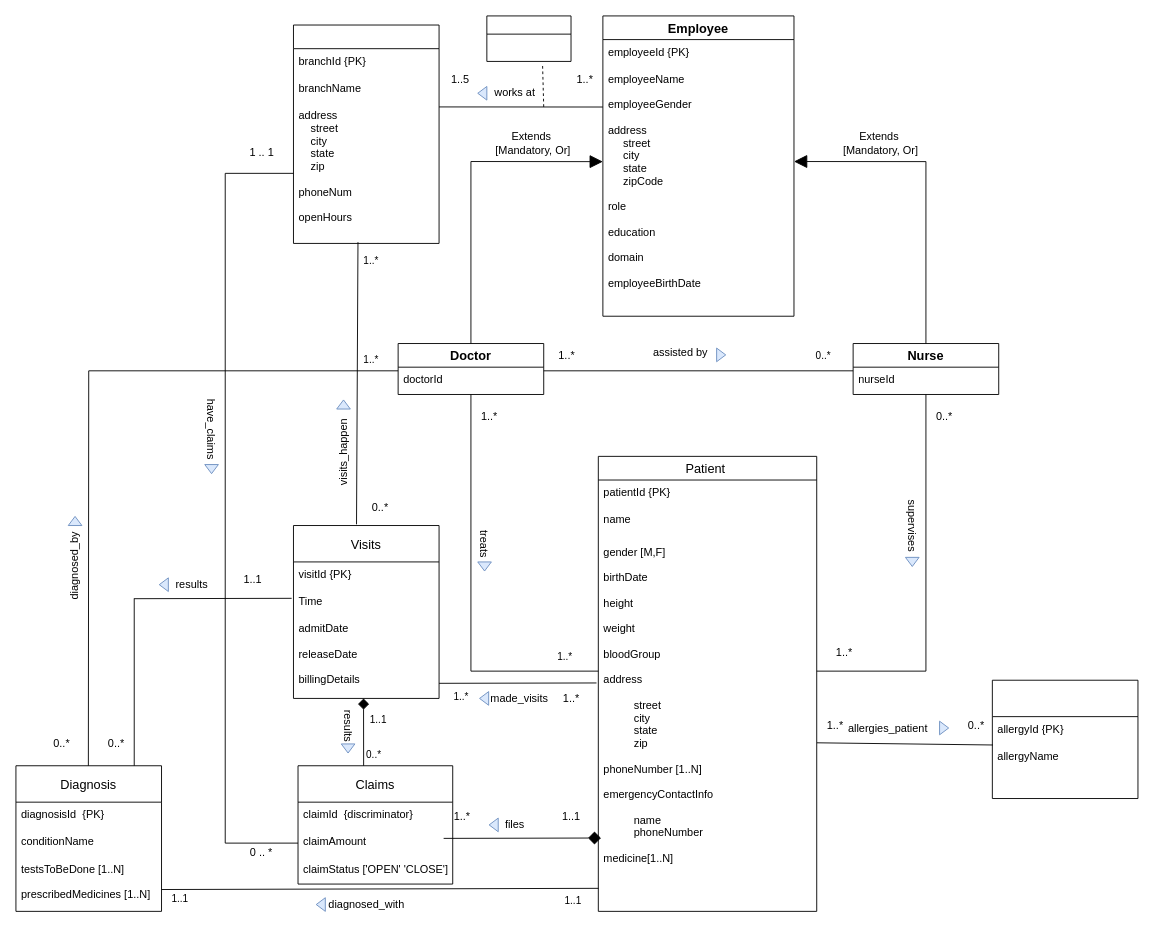
This 1154x930 diagram has some shape labels left out. The box of each missing label's shape, as (x1, y1, x2, y2) in pixels:
Allergies: (991, 679, 1138, 799)
Branches: (293, 24, 439, 243)
startDate: (486, 15, 571, 61)
